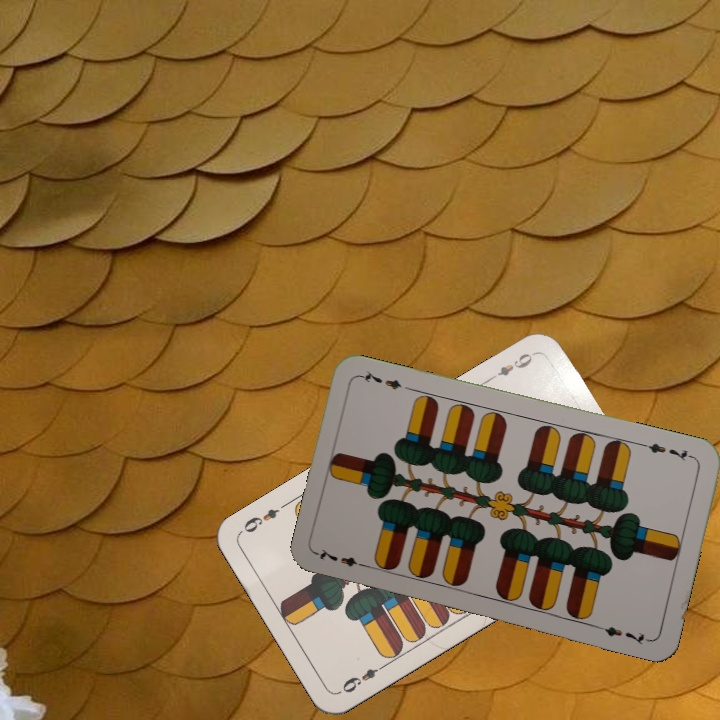E7: (314, 544, 372, 571), (639, 439, 697, 463)
E9: (484, 347, 538, 384), (338, 660, 389, 696)
